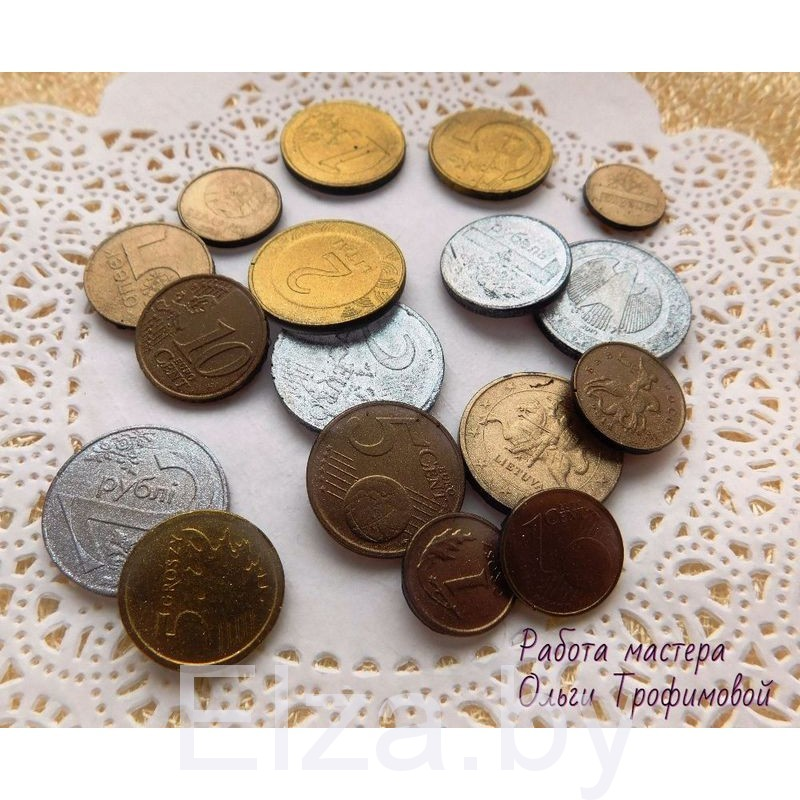coin: (41, 427, 229, 598), (117, 511, 286, 672), (305, 401, 466, 556), (461, 369, 622, 509), (271, 302, 446, 429), (247, 214, 409, 328), (547, 239, 690, 355), (138, 272, 267, 399), (498, 486, 623, 616), (401, 514, 517, 636), (439, 212, 571, 316), (84, 223, 216, 326), (572, 341, 686, 453), (280, 97, 406, 194), (428, 105, 552, 197), (177, 164, 281, 244), (582, 162, 667, 232)
